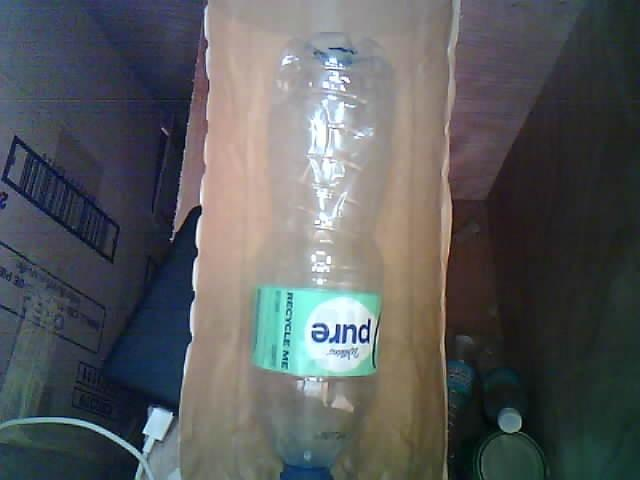large_bottle: (233, 21, 419, 480)
